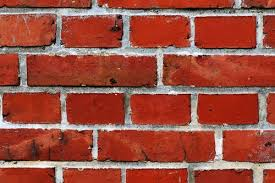brick: (28, 54, 157, 86), (98, 129, 214, 161), (164, 54, 275, 87), (1, 129, 93, 161), (130, 16, 190, 48), (196, 16, 255, 48), (1, 14, 58, 47), (62, 15, 121, 45), (2, 92, 60, 122), (131, 95, 189, 125), (224, 129, 275, 162), (198, 95, 258, 123), (67, 95, 124, 123), (97, 1, 235, 8), (63, 168, 121, 182), (1, 167, 54, 182), (127, 168, 188, 181), (194, 171, 254, 182), (1, 1, 90, 8), (1, 54, 19, 84), (263, 14, 274, 48), (263, 169, 275, 183)
